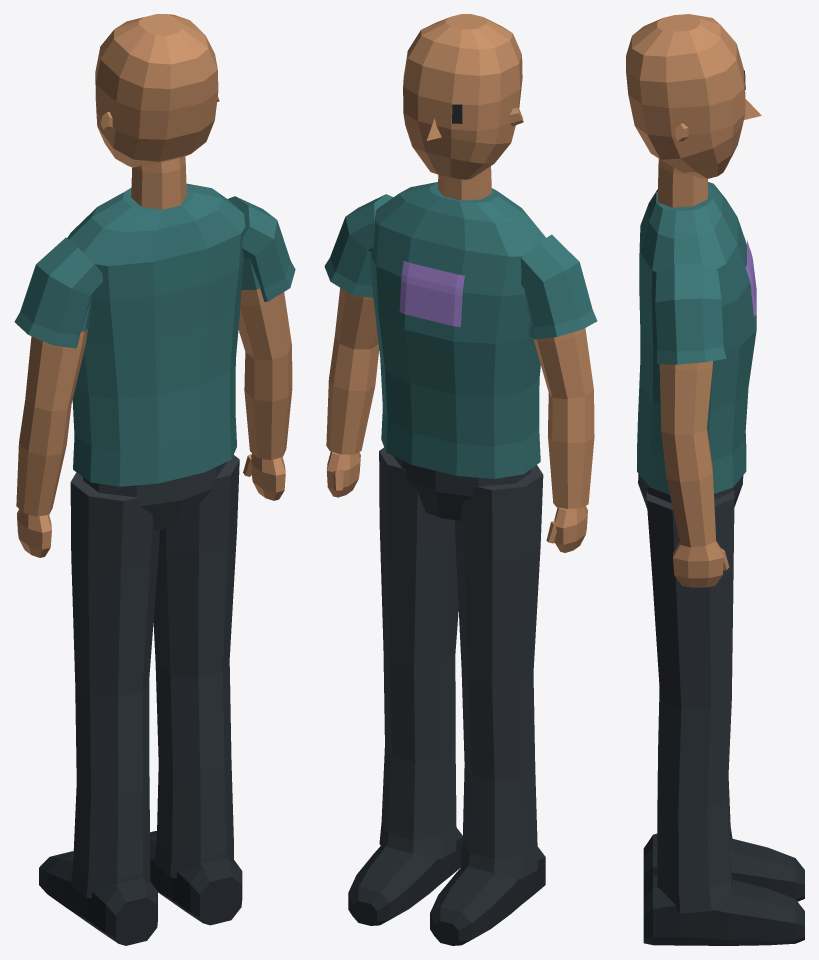
File: lwf_performer_male_body_v2.glb
3 renders of one model, left to right at view 1: azimuth 30°, elevation 25°; view 2: azimuth 150°, elevation 25°; view 3: azimuth 270°, elevation 25°, orthographic. The views are drawn at different scales.
Parts seen in each view (by area): view 1: LWF_Performer_BodyCore, LWF_Performer_IdleLeftArm, LWF_Performer_IdleRightArm; view 2: LWF_Performer_BodyCore, LWF_Performer_IdleLeftArm, LWF_Performer_IdleRightArm; view 3: LWF_Performer_BodyCore, LWF_Performer_IdleLeftArm, LWF_Performer_IdleRightArm.
Boxes of the visible parts, left/top/right/bottom form: LWF_Performer_BodyCore: left=39, top=14, right=242, bottom=945; LWF_Performer_IdleLeftArm: left=14, top=183, right=245, bottom=557; LWF_Performer_IdleRightArm: left=228, top=196, right=295, bottom=500; LWF_Performer_BodyCore: left=348, top=14, right=545, bottom=945; LWF_Performer_IdleLeftArm: left=371, top=182, right=597, bottom=552; LWF_Performer_IdleRightArm: left=324, top=194, right=393, bottom=497; LWF_Performer_BodyCore: left=626, top=14, right=804, bottom=945; LWF_Performer_IdleLeftArm: left=637, top=182, right=756, bottom=494; LWF_Performer_IdleRightArm: left=655, top=263, right=729, bottom=587.
Bounding box in the file's own units: 0.5385 × 1.73 × 0.3121.
1 material, 1 textured.
